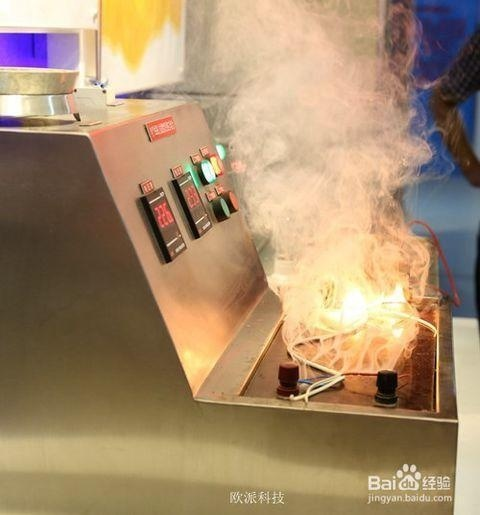fire: (298, 272, 415, 351)
